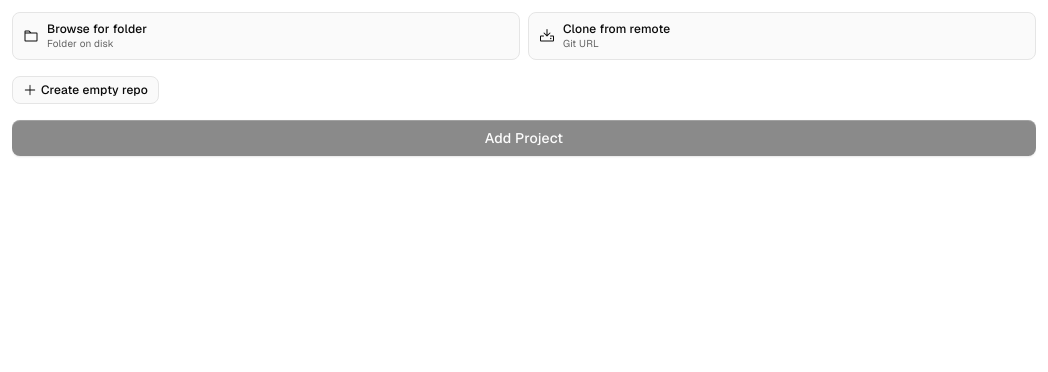
it: ProjectCreationForm git identity › waits for the folder check before allowing an existing repo to be added
Click the button "Browse for folder Folder on disk" at (97, 29), box top-left (12, 12), bottom-right (520, 60)
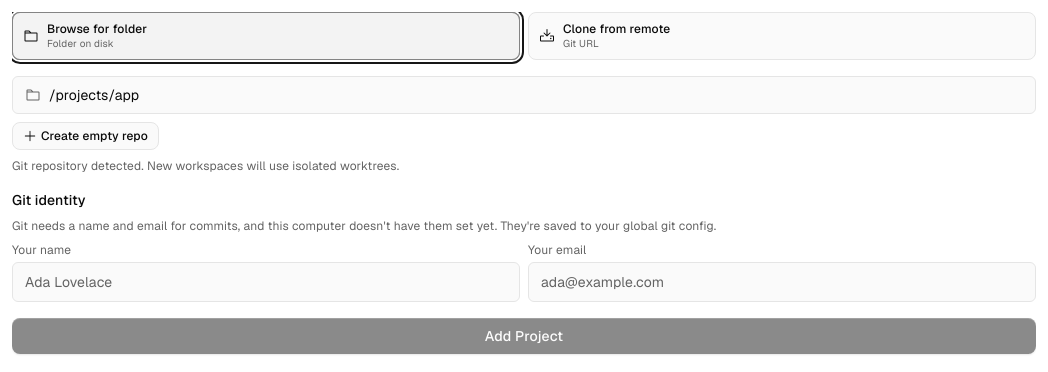
Expected: the button "Add Project" is disabled, top-left (12, 318), bottom-right (1036, 354)
Expected: the element "Git identity" is shown, top-left (12, 190), bottom-right (1036, 302)
